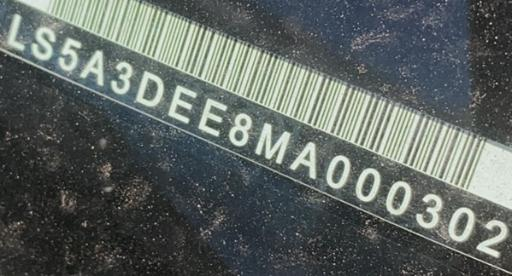letter: (252, 120, 294, 164), (474, 216, 510, 260), (131, 67, 169, 108), (196, 95, 232, 136), (165, 82, 199, 124), (384, 176, 418, 217), (289, 134, 319, 180), (29, 21, 59, 66), (76, 47, 110, 86), (55, 30, 83, 77), (322, 151, 354, 192), (414, 190, 446, 231), (352, 164, 384, 203), (228, 109, 256, 149), (4, 12, 28, 56), (444, 208, 474, 243), (106, 60, 134, 95), (474, 206, 474, 207)
